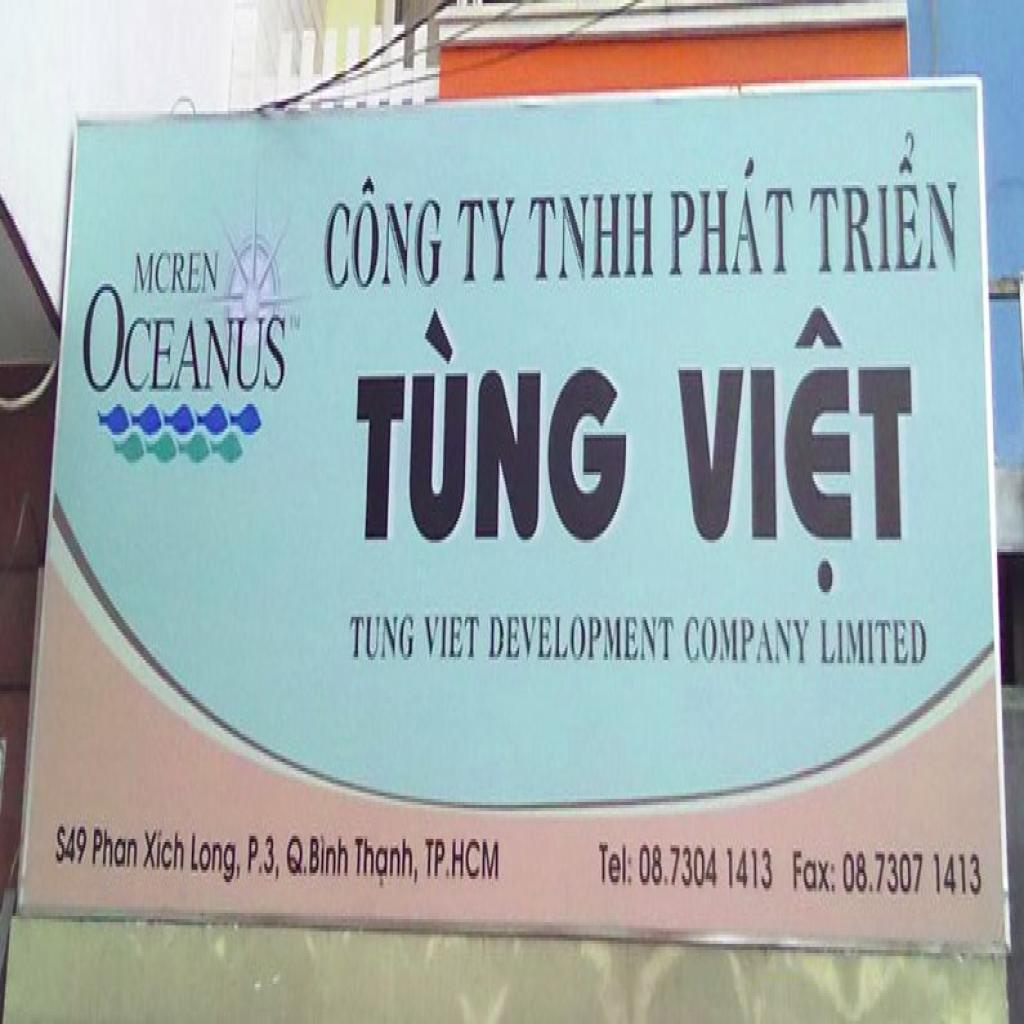text: (668, 299, 918, 605), (348, 299, 635, 552), (80, 268, 290, 404), (808, 111, 964, 281), (668, 151, 798, 284), (322, 170, 444, 299), (527, 185, 657, 287), (487, 608, 677, 669), (682, 608, 812, 676), (638, 836, 776, 897), (819, 614, 930, 672), (455, 191, 519, 290), (132, 244, 222, 302), (353, 833, 421, 894), (348, 611, 417, 669), (421, 611, 482, 666), (188, 830, 243, 891), (791, 842, 838, 901), (451, 833, 501, 885), (92, 823, 140, 876), (142, 824, 186, 879), (308, 830, 352, 885), (596, 836, 635, 894), (53, 820, 91, 873), (423, 830, 452, 888), (286, 827, 309, 882), (246, 827, 264, 885), (263, 833, 281, 888)
